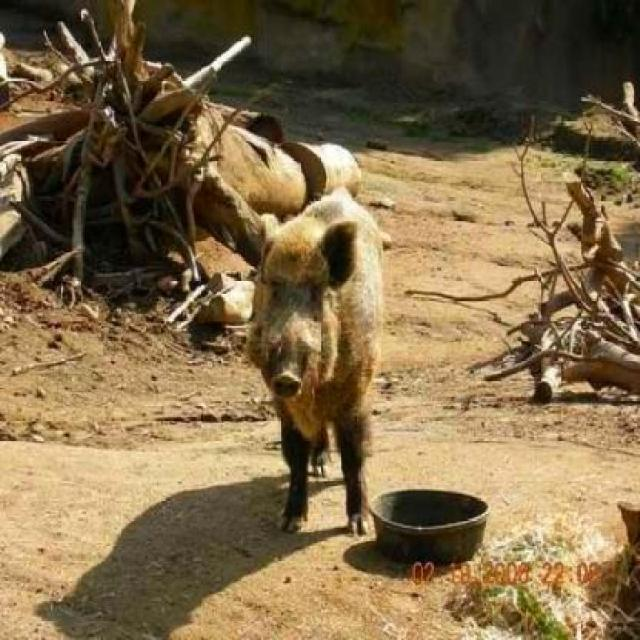Boar: (237, 189, 395, 540)
